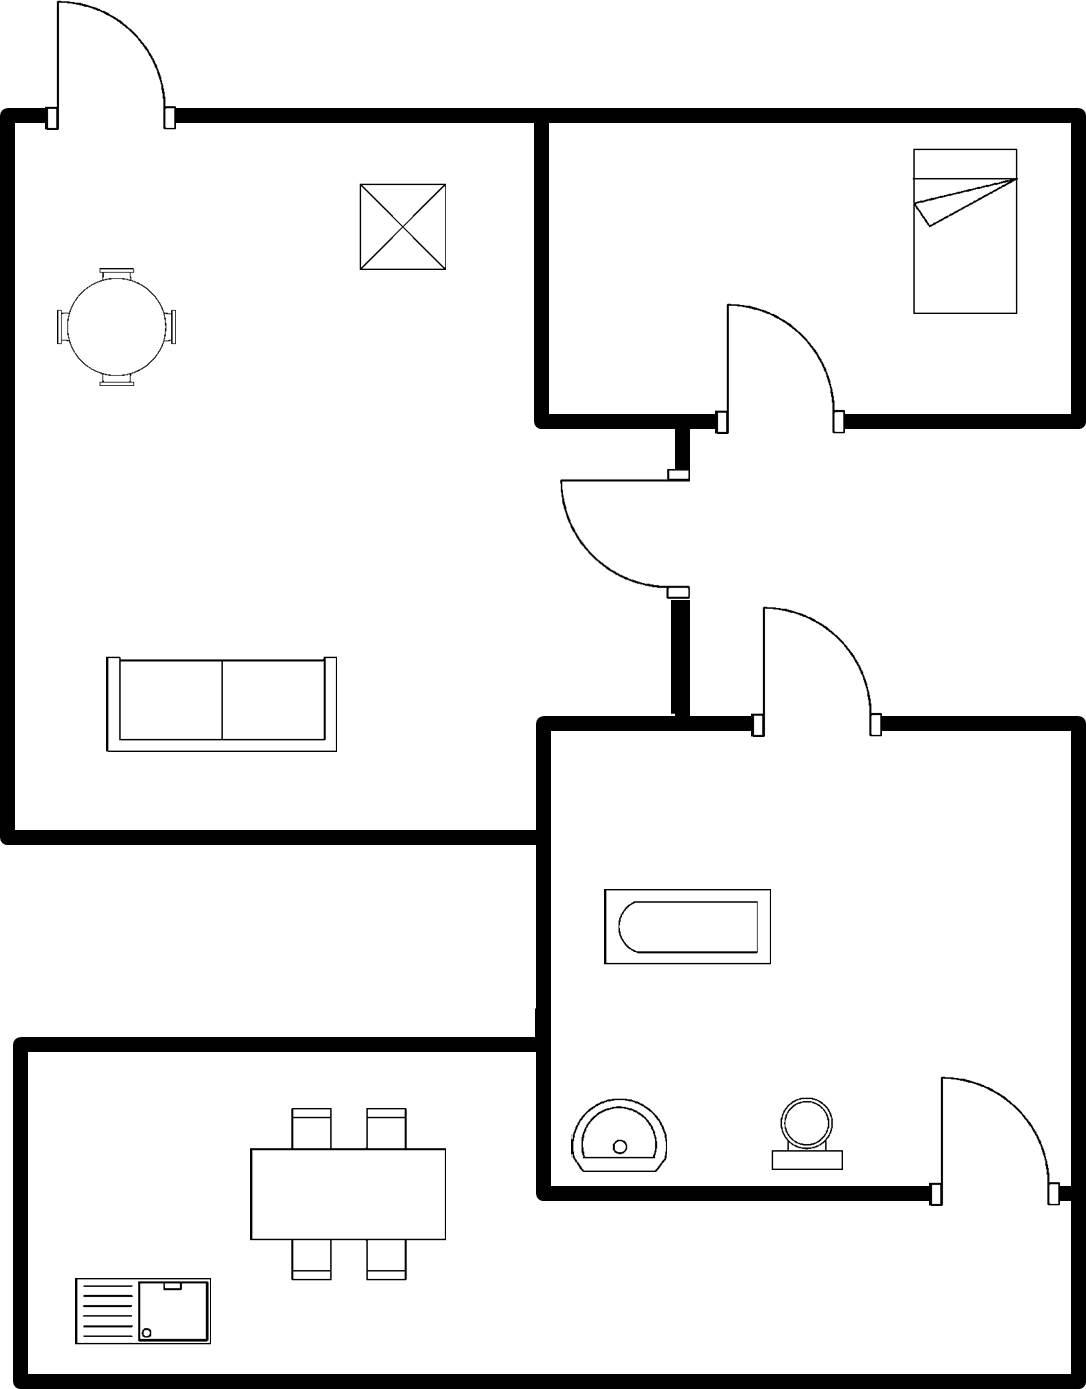bed: (901, 138, 1028, 322)
dining_table: (238, 1095, 453, 1291)
round_table: (42, 255, 191, 399)
sink: (59, 1268, 221, 1355)
sofa: (90, 649, 346, 766)
toilet: (759, 1087, 851, 1177)
tub: (592, 881, 782, 977)
